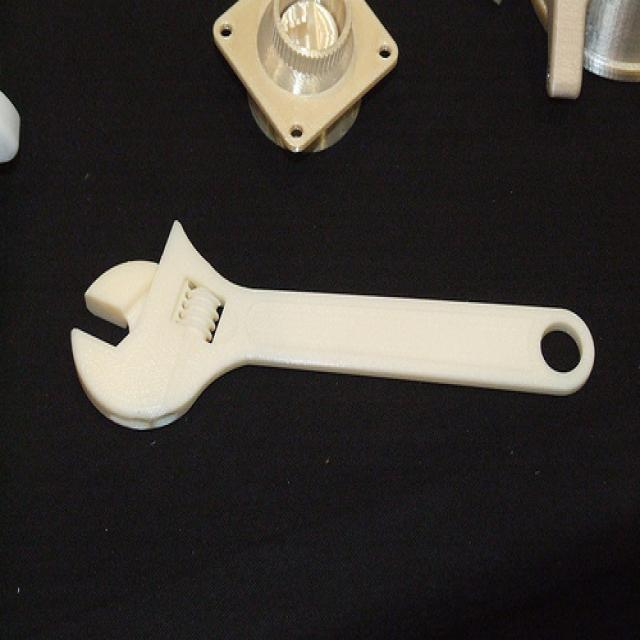wrench: (34, 210, 640, 465)
